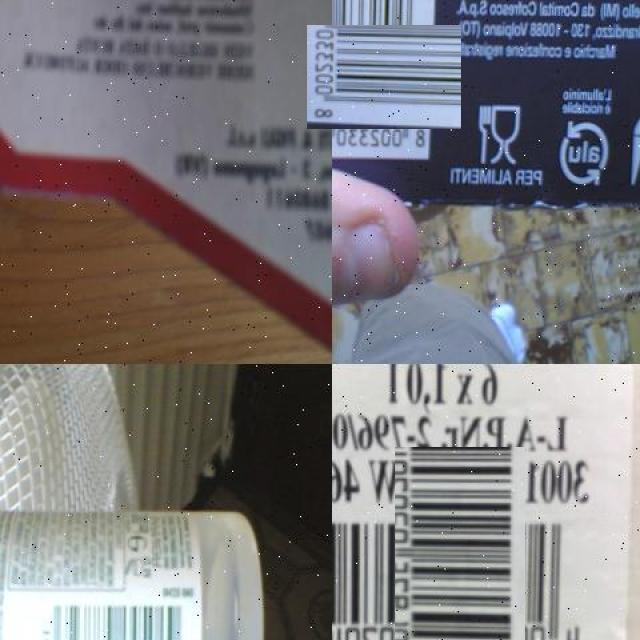Barcode: (363, 478, 555, 640), (319, 13, 449, 142), (32, 594, 196, 640)
